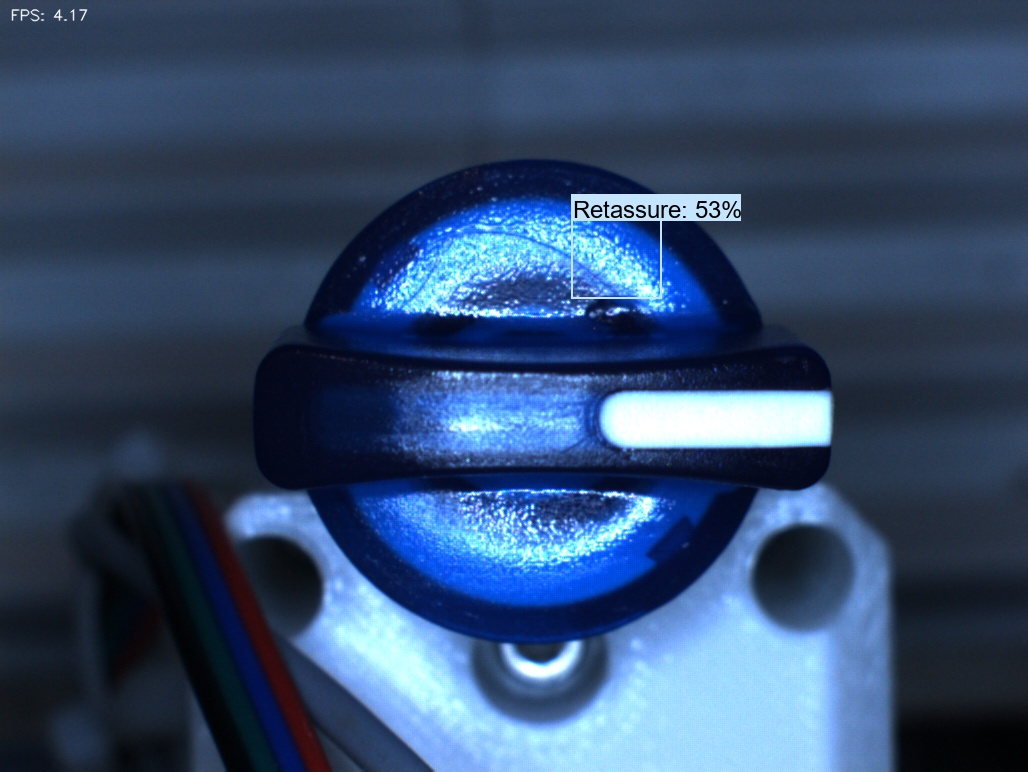Choc: (578, 269, 667, 358)
